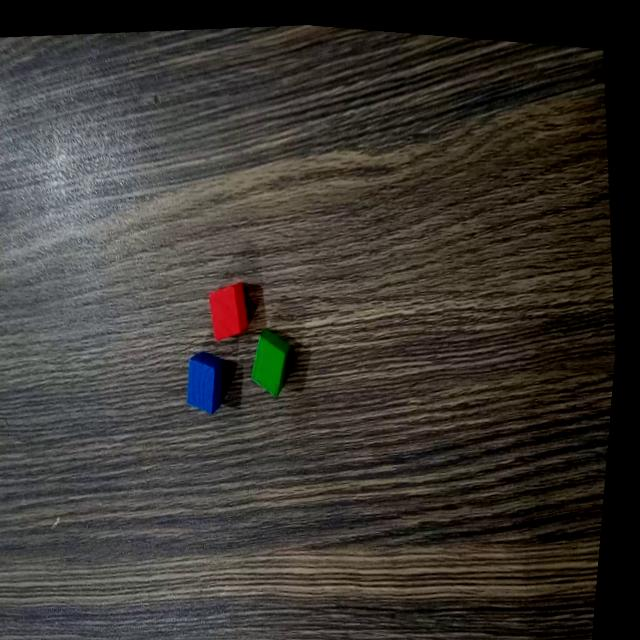cube: (248, 315, 308, 397), (183, 340, 237, 415), (206, 271, 258, 342)
